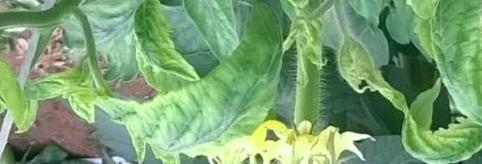Tomato leaf yellow virus: (124, 5, 286, 155), (421, 0, 482, 130)
